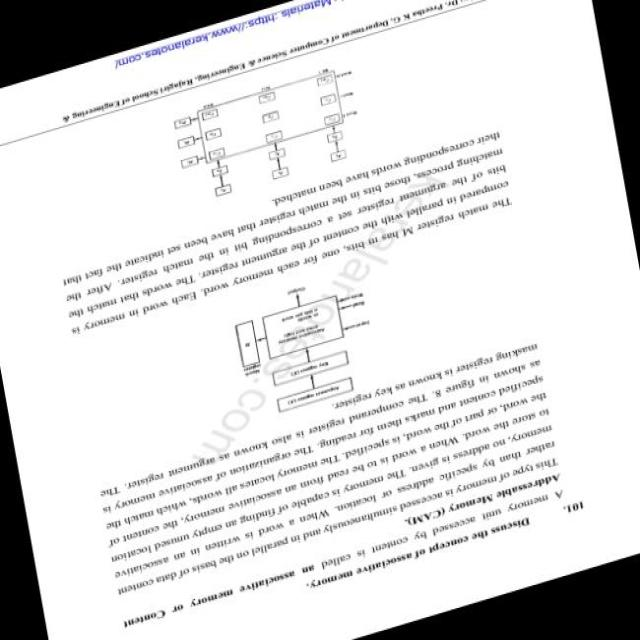Figure Detection - v3 Dataset Version2: (160, 48, 375, 222), (205, 259, 387, 432)
